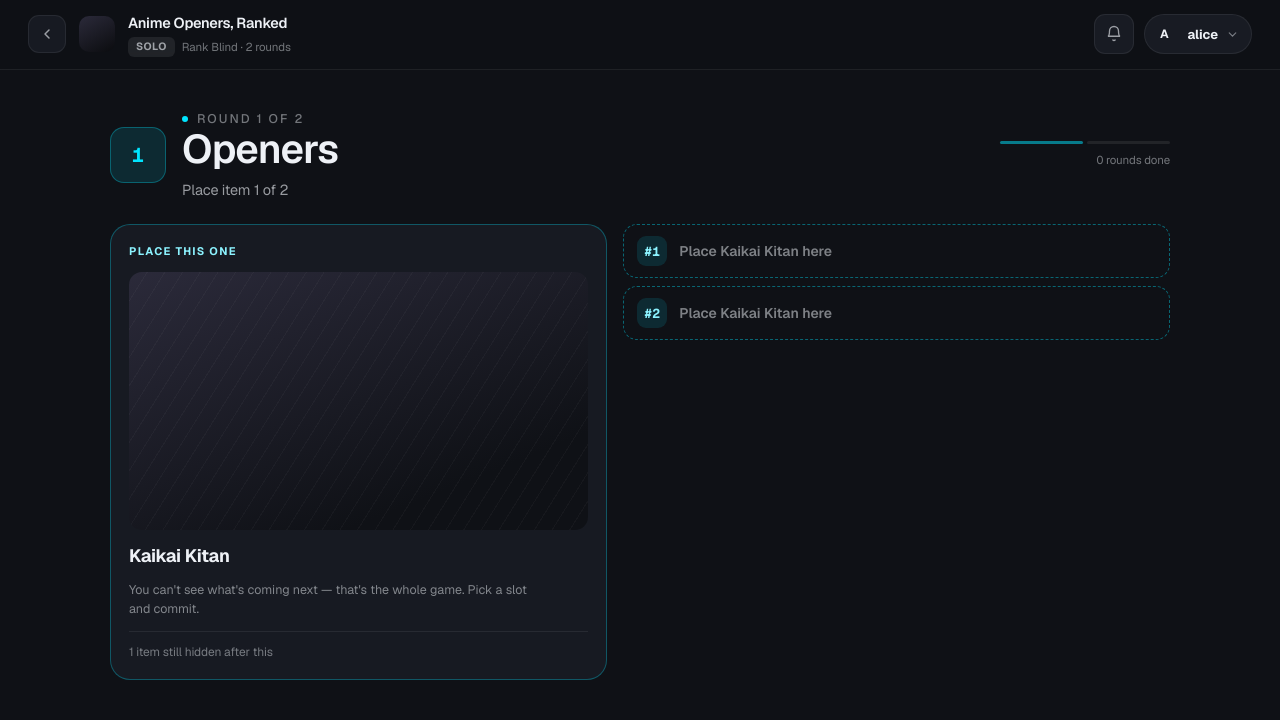
Test: RankPlayScreen › shows a round-complete summary and advances to the next round
Check: the text "Kaikai Kitan" is shown, box left=129, top=544, right=230, bottom=567
Click the text "#1" at x=652, y=251, box left=637, top=236, right=667, bottom=266
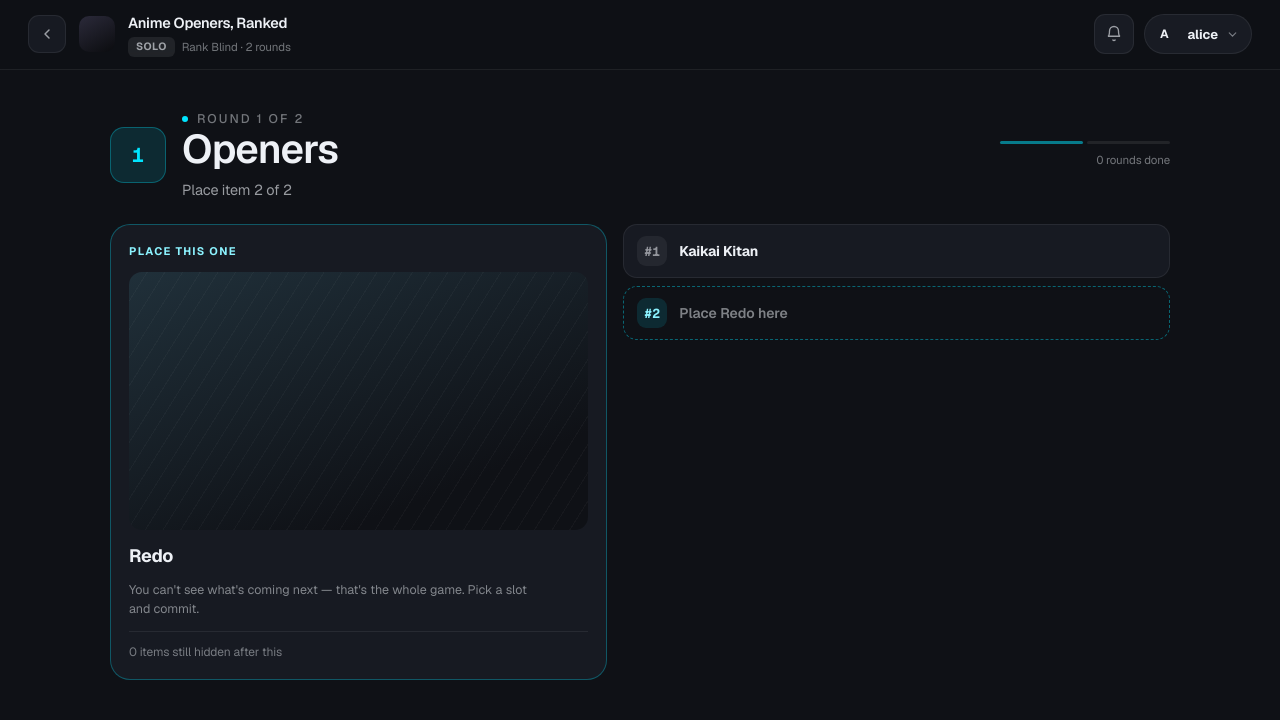
Check: the text "Redo" is shown, box left=129, top=544, right=173, bottom=567
Click the text "#2" at x=652, y=313, box left=637, top=298, right=667, bottom=328
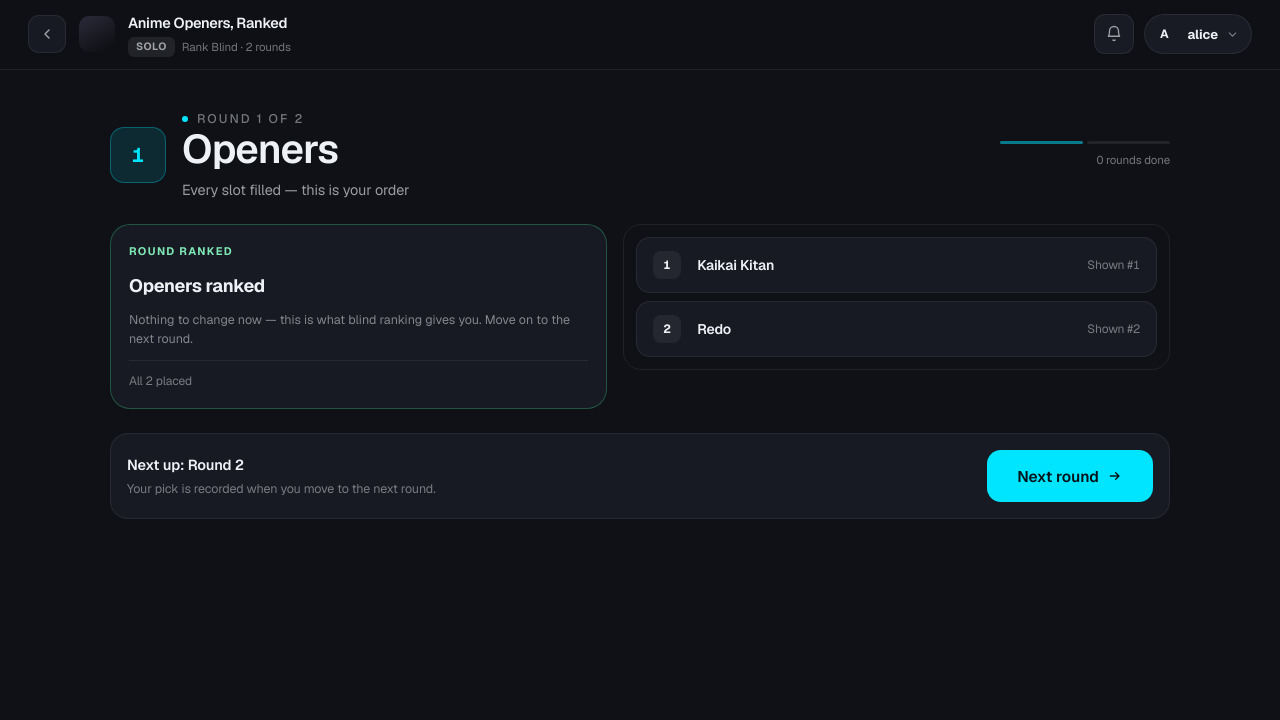
Check: the text "Openers ranked" is shown, box left=129, top=274, right=265, bottom=297
Click the button "Next round" at x=1070, y=476, box left=987, top=450, right=1153, bottom=502
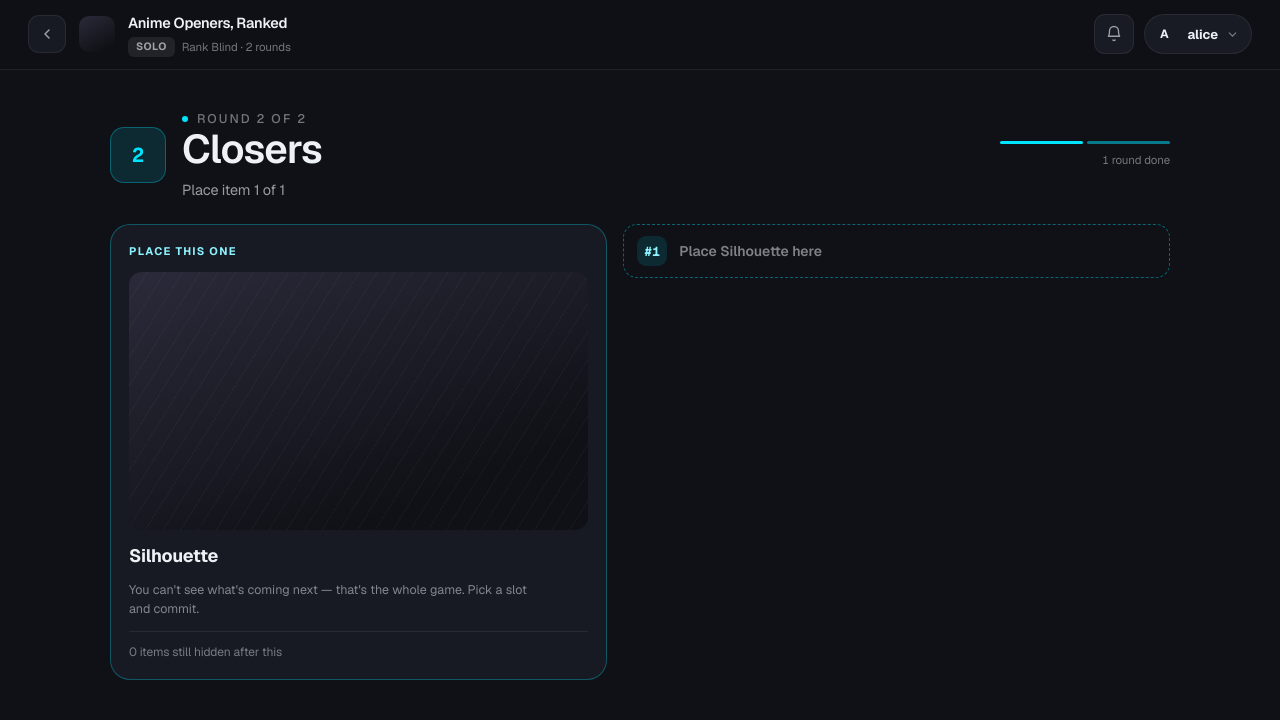
Check: the text "Silhouette" is shown, box left=129, top=544, right=218, bottom=567
Check: the text "Round 2 of 2" is shown, box left=197, top=110, right=307, bottom=128
